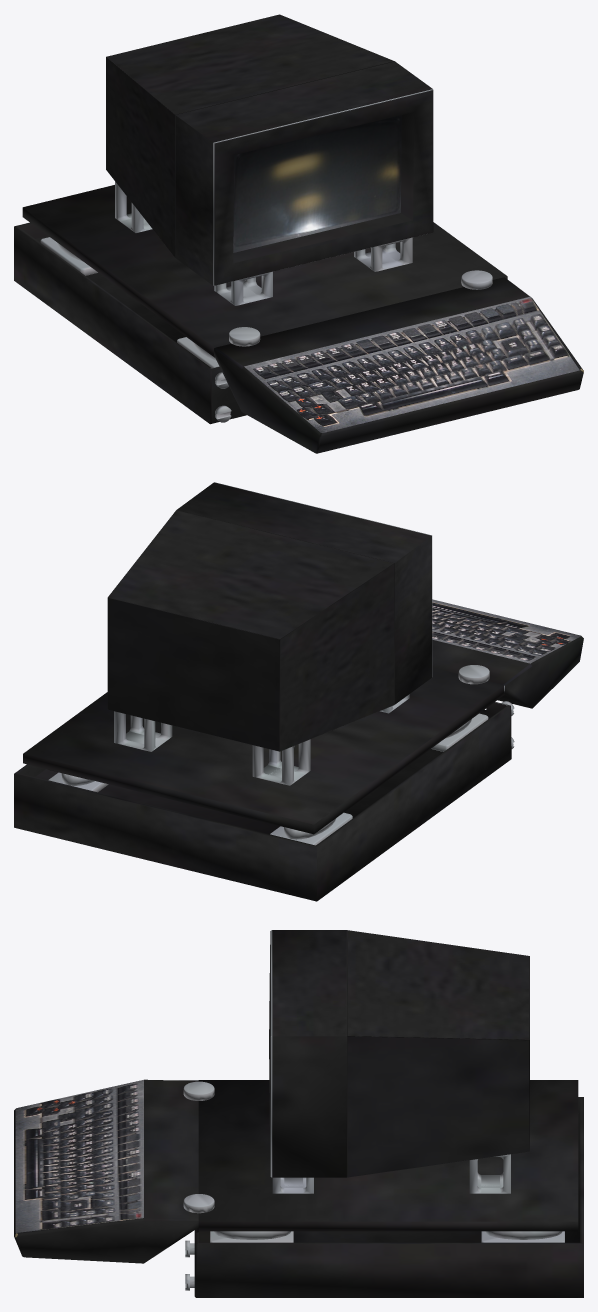
The model's file is TeletypeMonitorKeyboard.obj.
3 renders of one model, top to bottom at view 1: azimuth 30°, elevation 25°; view 2: azimuth 150°, elevation 25°; view 3: azimuth 270°, elevation 25°, orthographic.
Visible parts, largest first — view 1: TeletypeMonitorKeyboard.obj; view 2: TeletypeMonitorKeyboard.obj; view 3: TeletypeMonitorKeyboard.obj.
Part boxes in pixels (bbox=[...]): TeletypeMonitorKeyboard.obj: bbox=[14, 14, 583, 453]; TeletypeMonitorKeyboard.obj: bbox=[14, 482, 583, 901]; TeletypeMonitorKeyboard.obj: bbox=[14, 930, 583, 1297].
Size of the model in its own units: 6.82 by 5.19 by 11.14.
